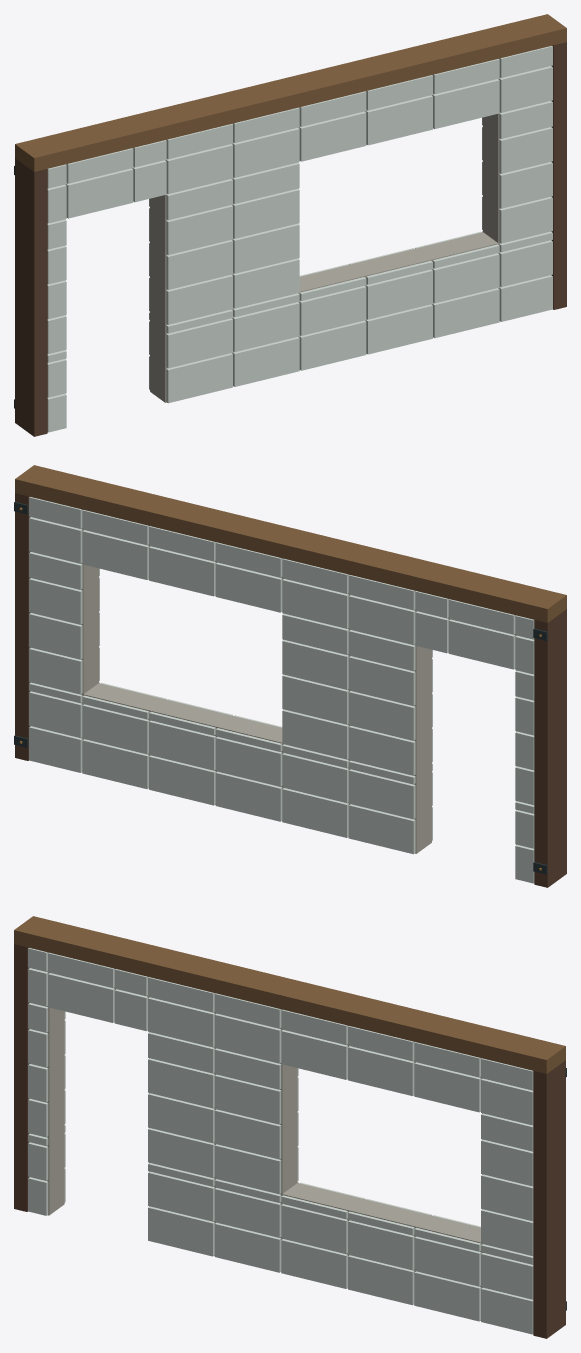
The picture shows the model from 3 angles, top to bottom: view 1: azimuth 30°, elevation 25°; view 2: azimuth 150°, elevation 25°; view 3: azimuth 330°, elevation 25°; orthographic projection.
Visible parts, largest first — view 1: 共享墙面用途 · clinic; view 2: 共享墙面用途 · clinic; view 3: 共享墙面用途 · clinic.
Boxes of the visible parts, x1,y1,x2,y2 form: 共享墙面用途 · clinic: (14, 14, 566, 436); 共享墙面用途 · clinic: (14, 465, 566, 887); 共享墙面用途 · clinic: (14, 916, 566, 1338).
Bounding box in the file's own units: 6.4 × 3.2 × 0.44.
6 materials, 6 textured.
